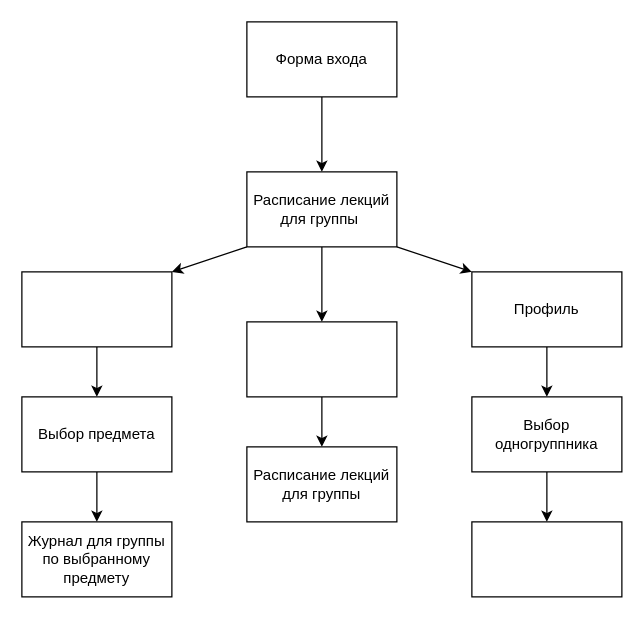
This 644x619 diagram has some shape labels left out. Each missing label, with the box of its shape:
Выбор дня недели: (246, 321, 397, 397)
Журнал: (21, 271, 172, 347)
Профиль одногруппника: (471, 521, 622, 597)
